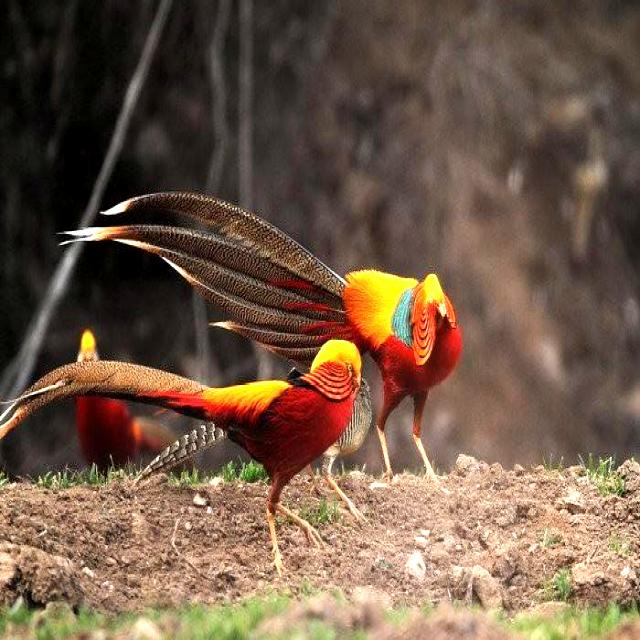Chrysolophus pictus feather: (54, 191, 363, 369), (0, 361, 208, 442)
